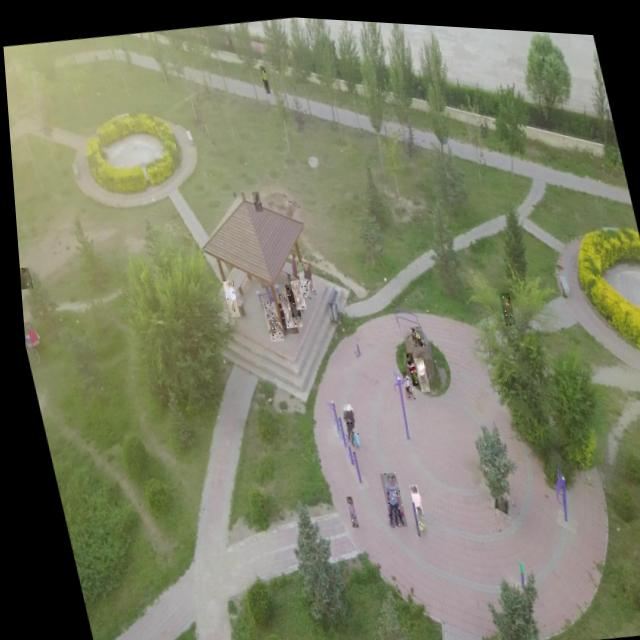Person: (373, 467, 400, 524), (333, 399, 355, 444), (258, 298, 280, 341), (275, 287, 298, 326), (291, 257, 312, 295), (273, 298, 295, 332), (218, 277, 236, 315), (495, 286, 512, 320), (409, 352, 425, 388), (281, 280, 297, 315), (402, 479, 417, 515), (286, 276, 302, 307), (401, 347, 414, 382), (338, 492, 351, 524), (396, 366, 409, 396), (405, 320, 421, 343), (259, 62, 270, 91), (16, 267, 29, 291), (286, 250, 298, 274), (249, 188, 261, 210), (282, 197, 291, 209)
